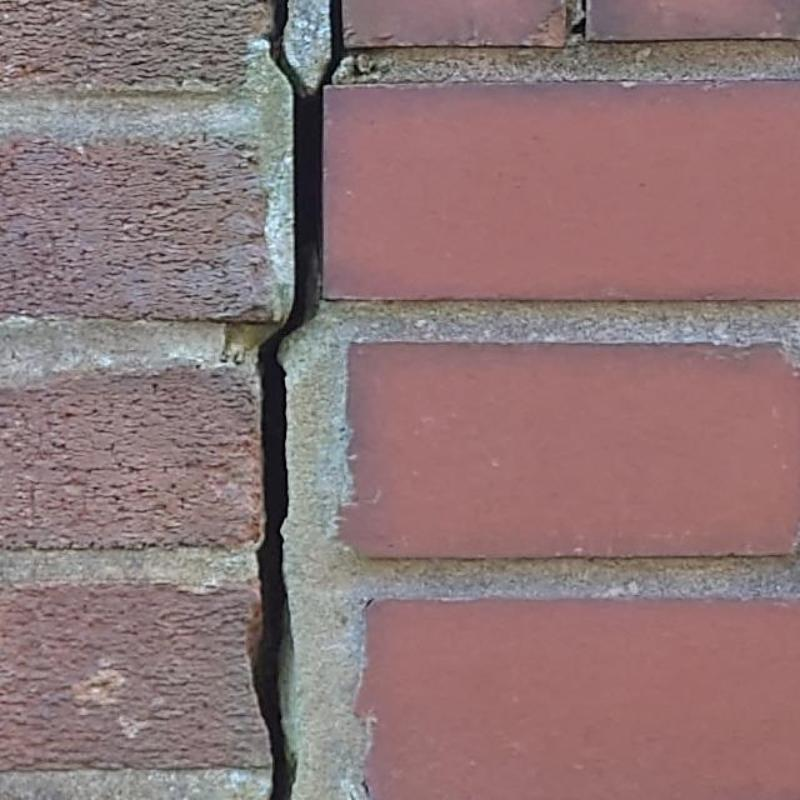pothole: (253, 0, 344, 799)
